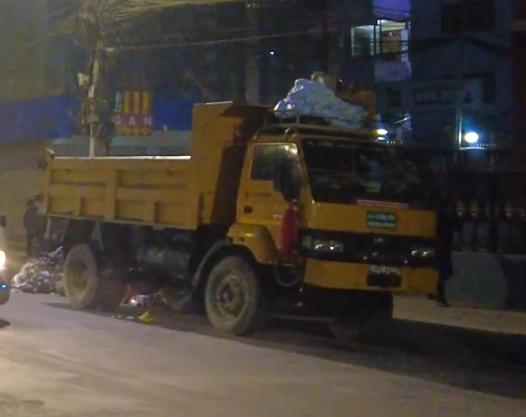mini_truck: (40, 95, 447, 344)
